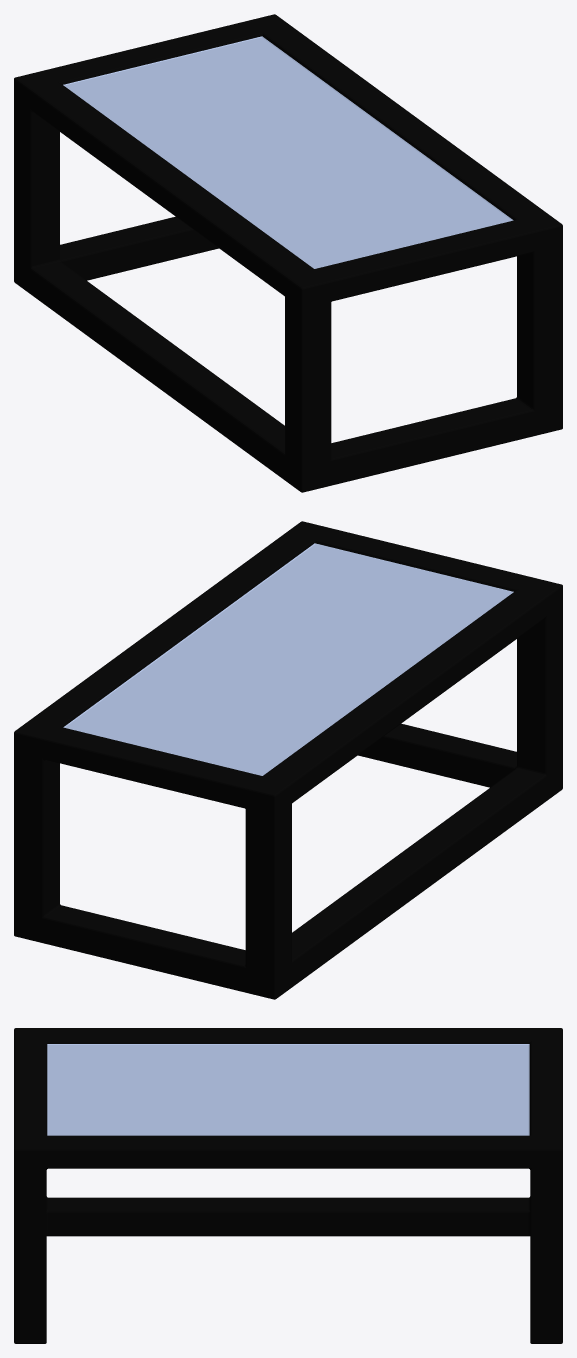
Rendered from table_small.fbx.
The picture shows the model from 3 angles, top to bottom: view 1: azimuth 30°, elevation 25°; view 2: azimuth 150°, elevation 25°; view 3: azimuth 270°, elevation 25°; orthographic projection. The views are drawn at different scales.
Parts seen in each view (by area): view 1: Cube; view 2: Cube; view 3: Cube.
Boxes of the visible parts, left/top/right/bottom form: Cube: left=14, top=14, right=562, bottom=492; Cube: left=14, top=521, right=562, bottom=999; Cube: left=14, top=1028, right=562, bottom=1343.
Bounding box in the file's own units: 200 × 150 × 381.
